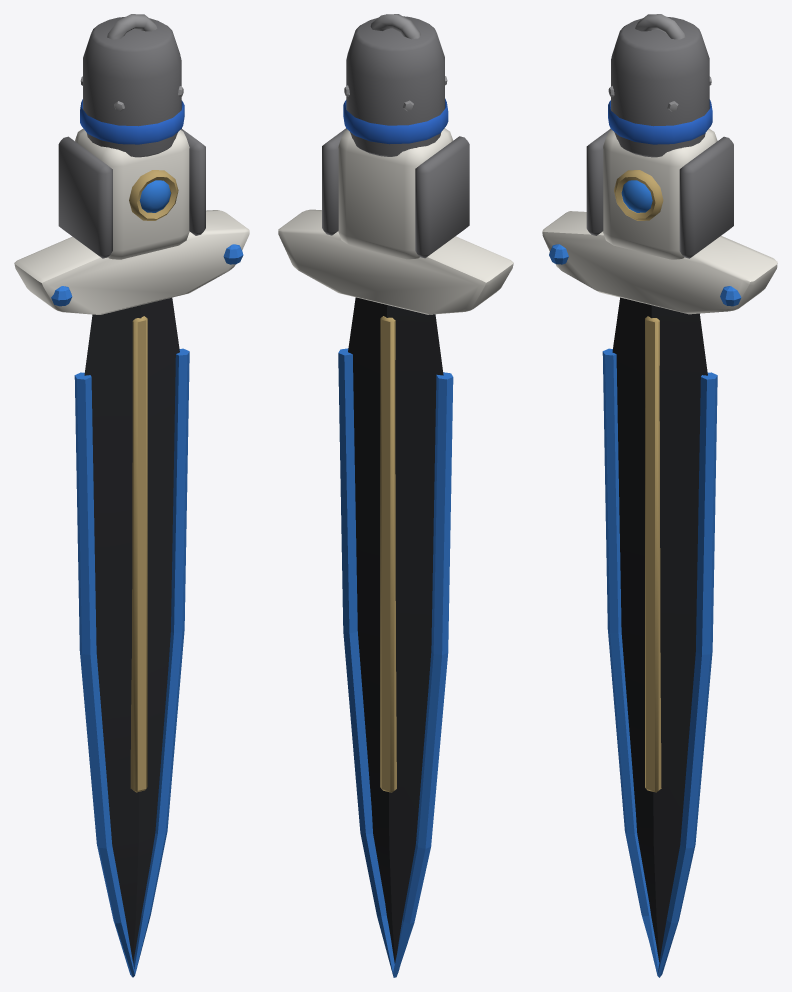
File: Kit_Blade_ProEnergy.glb
3 views of the same model, side by side, from view 1: azimuth 30°, elevation 25°; view 2: azimuth 150°, elevation 25°; view 3: azimuth 330°, elevation 25° (orthographic).
Parts seen in each view (by area): view 1: Kit_Blade_ProEnergy; view 2: Kit_Blade_ProEnergy; view 3: Kit_Blade_ProEnergy.
Boxes of the visible parts, x1,y1,x2,y2 form: Kit_Blade_ProEnergy: (14, 14, 249, 977); Kit_Blade_ProEnergy: (278, 14, 513, 977); Kit_Blade_ProEnergy: (542, 14, 777, 977).
Bounding box in the file's own units: 0.1678 × 0.7312 × 0.0731.
